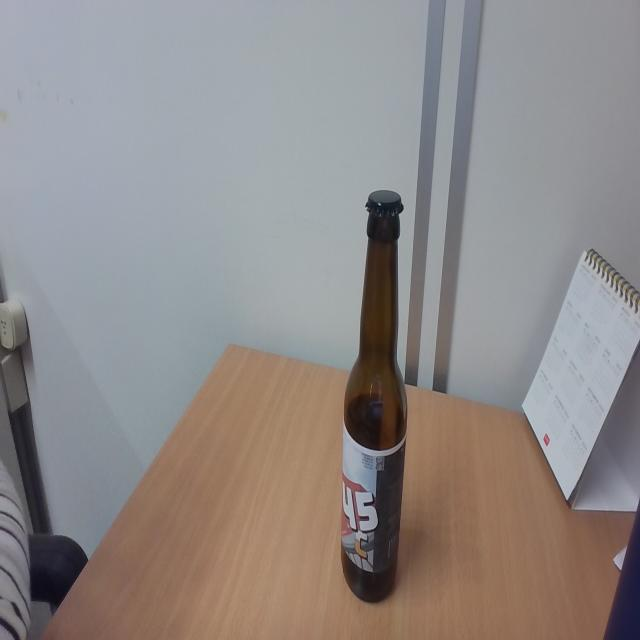Bottle: (341, 188, 408, 604)
Cap: (360, 189, 406, 219)
Label: (341, 435, 404, 573)
